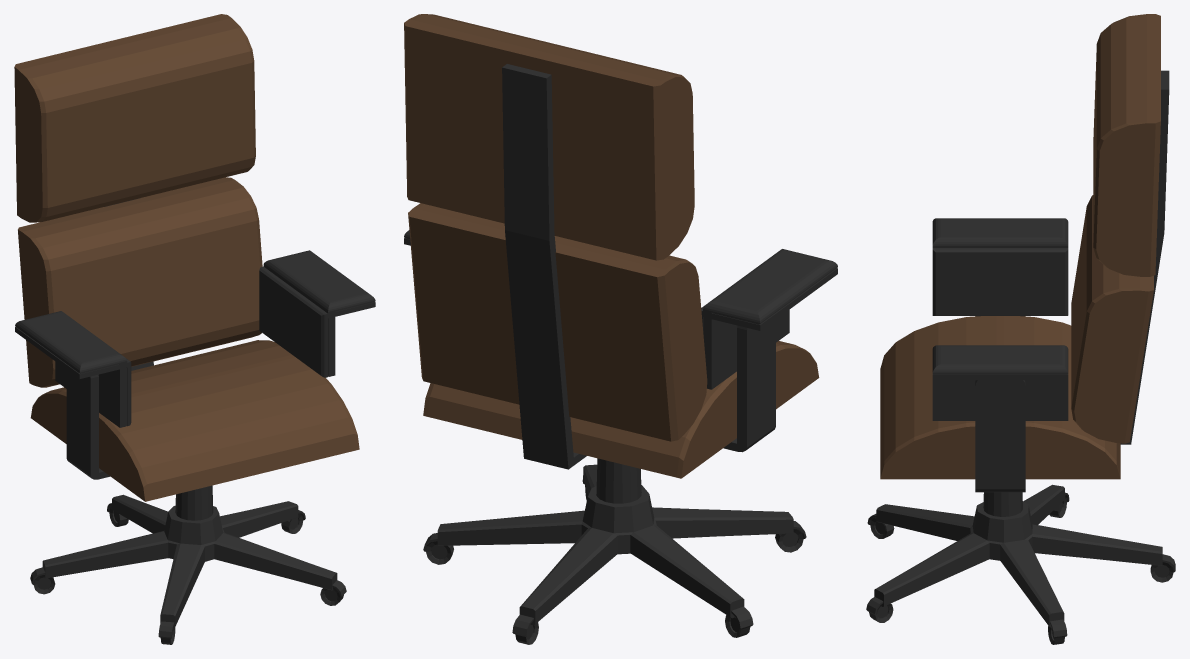
Rendered from SiegePatron.fbx.
3 renders of one model, left to right at view 1: azimuth 30°, elevation 25°; view 2: azimuth 150°, elevation 25°; view 3: azimuth 270°, elevation 25°, orthographic. The views are drawn at different scales.
Parts seen in each view (by area): view 1: ChaisePatron; view 2: ChaisePatron; view 3: ChaisePatron.
Boxes of the visible parts, left/top/right/bottom form: ChaisePatron: left=14, top=14, right=375, bottom=644; ChaisePatron: left=404, top=14, right=837, bottom=644; ChaisePatron: left=866, top=14, right=1175, bottom=644.
Size of the model in its own units: 75.5 by 119 by 65.2.
